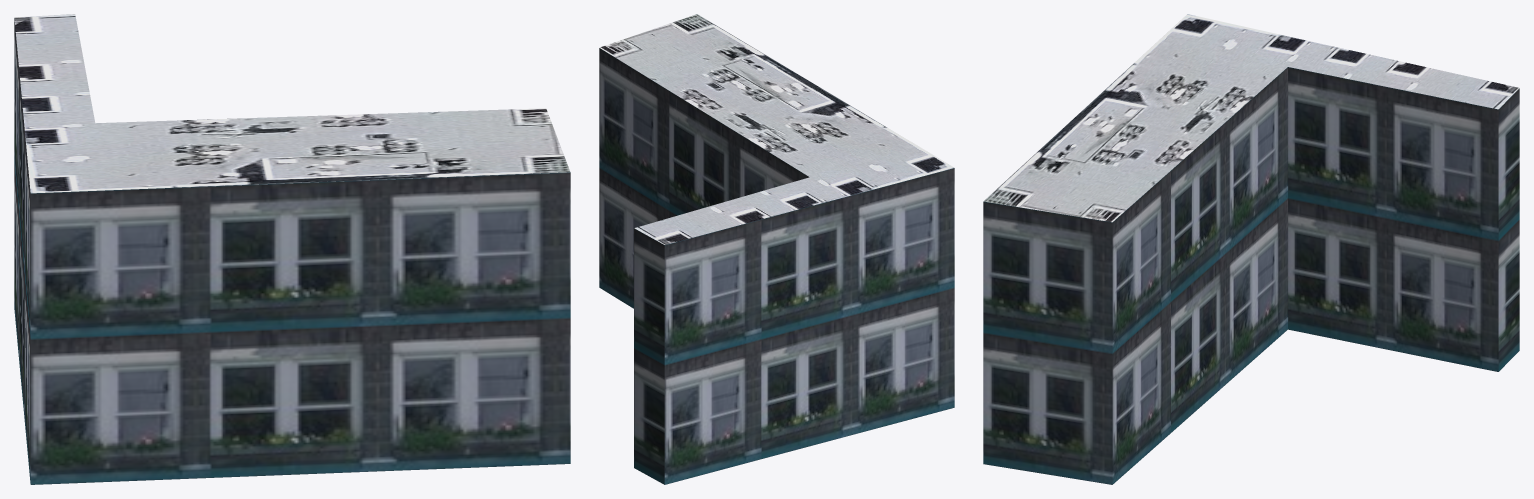
Rendered from ResTex__5019.fbx.
3 renders of one model, left to right at view 1: azimuth 30°, elevation 25°; view 2: azimuth 150°, elevation 25°; view 3: azimuth 270°, elevation 25°, orthographic. The views are drawn at different scales.
Visible parts, largest first — view 1: CityEngineMaterial_11_m, CityEngineMaterial_m; view 2: CityEngineMaterial_11_m, CityEngineMaterial_m; view 3: CityEngineMaterial_11_m, CityEngineMaterial_m.
Part boxes in pixels (bbox=[...]): CityEngineMaterial_11_m: bbox=[14, 18, 570, 484]; CityEngineMaterial_m: bbox=[14, 14, 570, 193]; CityEngineMaterial_11_m: bbox=[599, 48, 954, 484]; CityEngineMaterial_m: bbox=[599, 14, 954, 244]; CityEngineMaterial_11_m: bbox=[983, 67, 1519, 484]; CityEngineMaterial_m: bbox=[983, 14, 1519, 222].
Size of the model in its own units: 10.21 by 6 by 11.11.
Materials: 2 (2 with a texture image).
